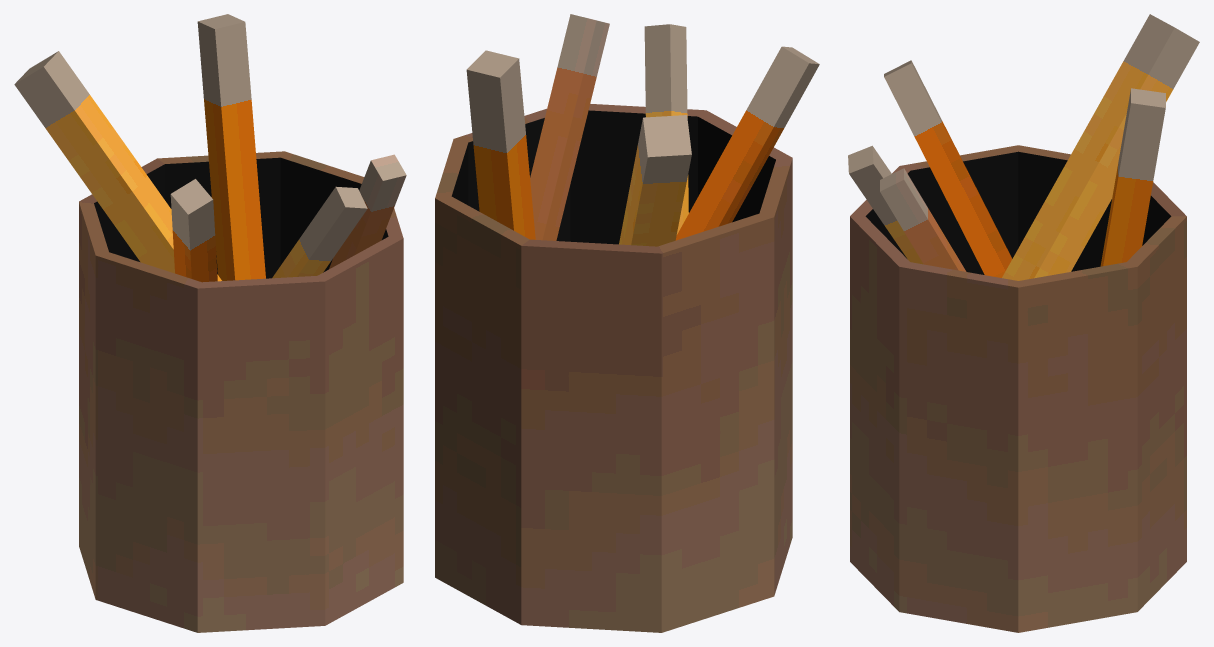
Rendered from pencilCup.glb.
The picture shows the model from 3 angles, left to right: view 1: azimuth 30°, elevation 25°; view 2: azimuth 150°, elevation 25°; view 3: azimuth 270°, elevation 25°; orthographic projection. The views are drawn at different scales.
Visible parts, largest first — view 1: pencilCup; view 2: pencilCup; view 3: pencilCup.
Boxes of the visible parts, x1=… form: pencilCup: x1=14, y1=14, x2=406, y2=632; pencilCup: x1=435, y1=14, x2=819, y2=632; pencilCup: x1=848, y1=14, x2=1199, y2=632.
Bounding box in the file's own units: 0.121 × 0.1911 × 0.1249.
Materials: 1 (1 with a texture image).
